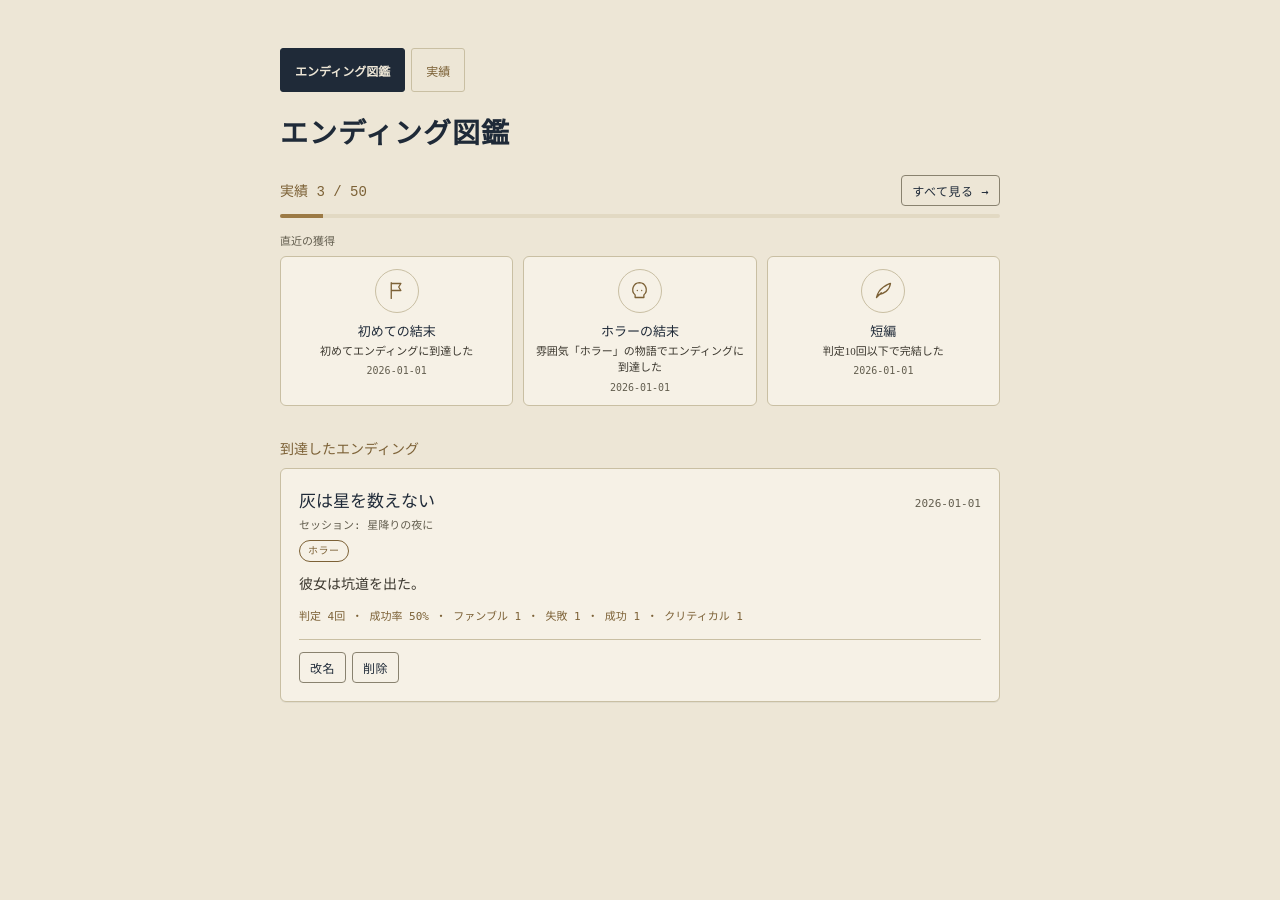
it: EndingGallery › closes the confirm modal on delete failure so the error message is readable (not hidden behind the overlay)
What coordinates should you click on to do the following:
click the button "削除"
I would click on:
 (376, 667)
Its box is [352, 652, 399, 683].
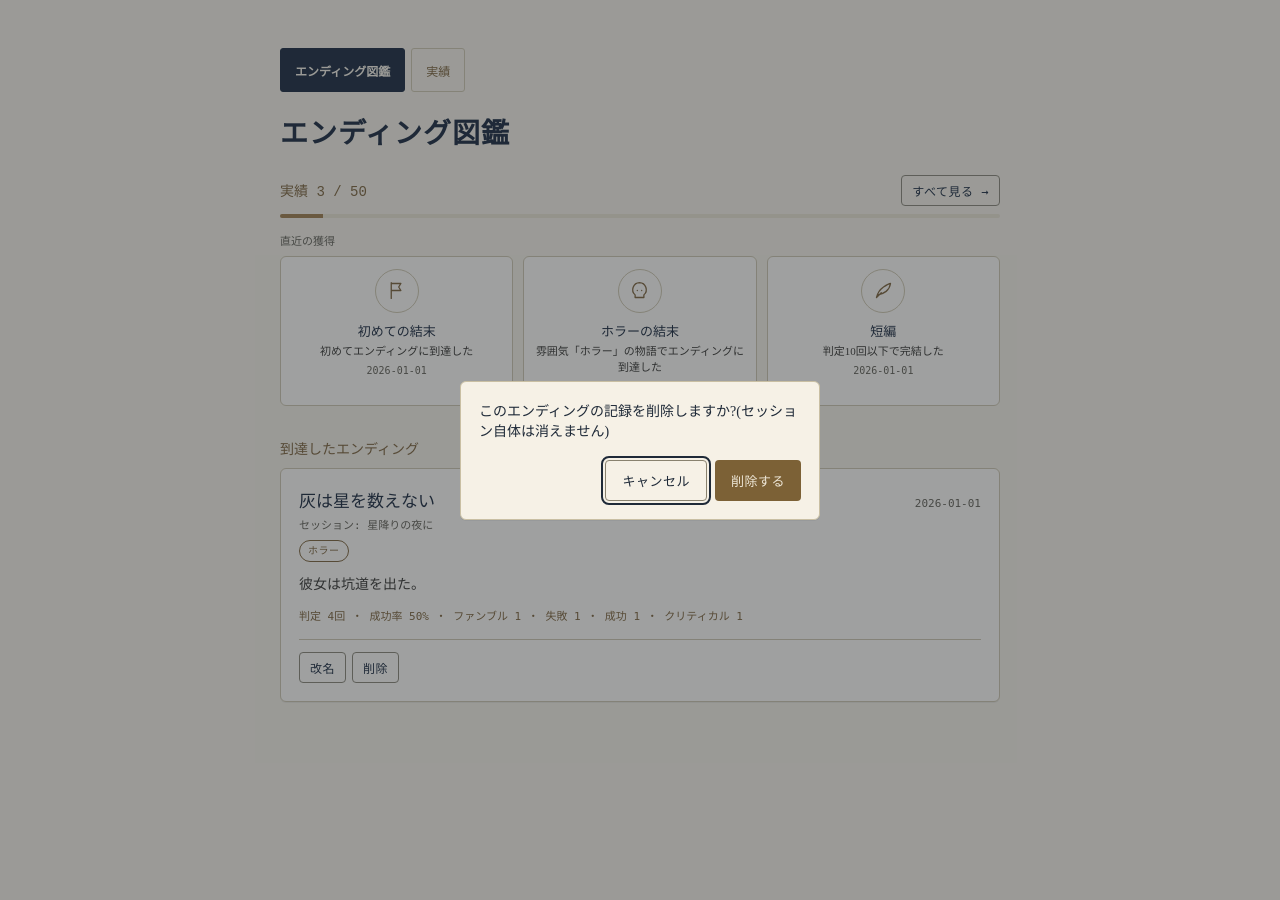
What coordinates should you click on to do the following:
click the button "削除する"
I would click on:
 (758, 480)
Its box is [715, 460, 801, 500].
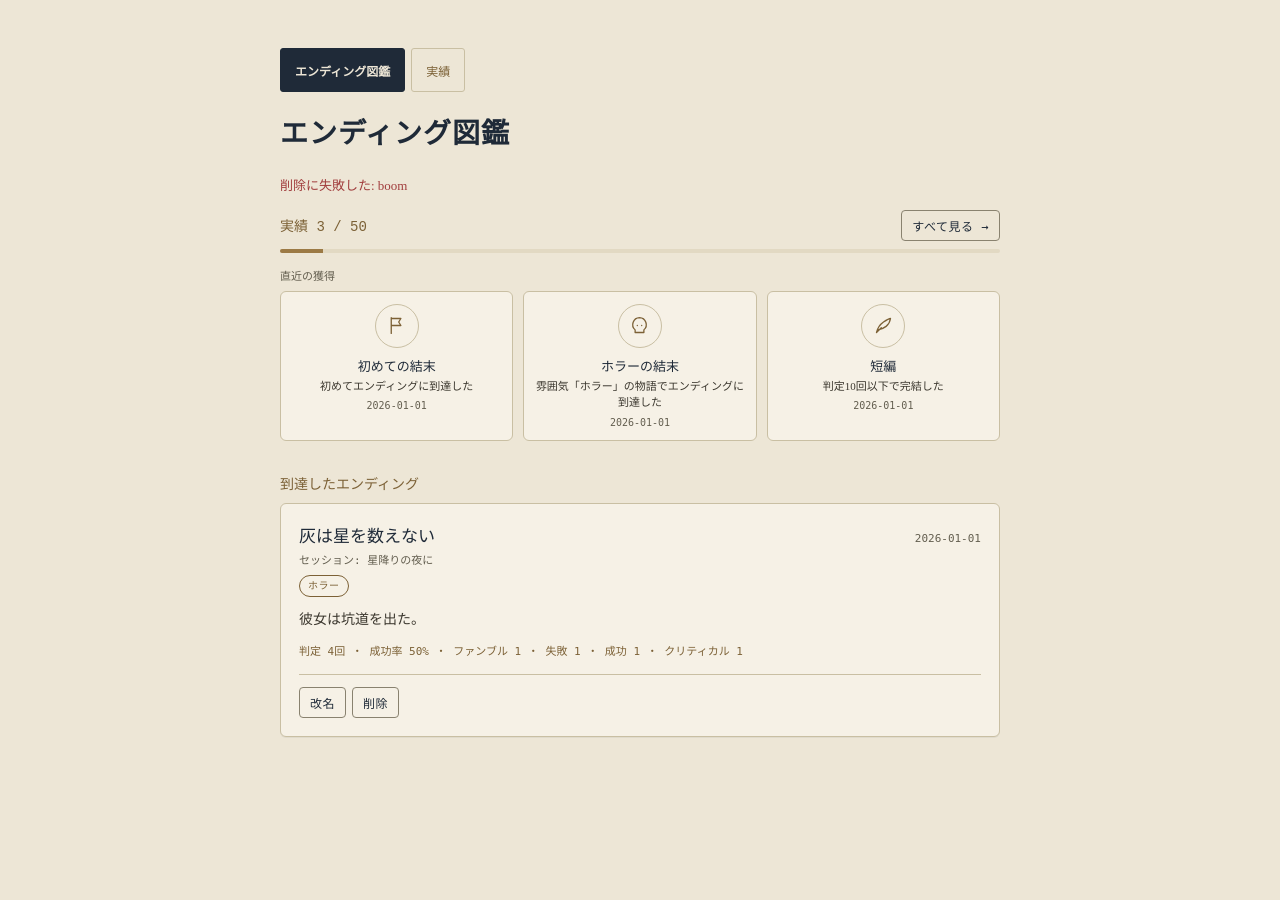
Check: the text "灰は星を数えない" is shown, box [299, 522, 435, 547]
Check: the text "削除に失敗した: boom" is shown, box [280, 178, 408, 193]
Check: the button "キャンセル" is gone
